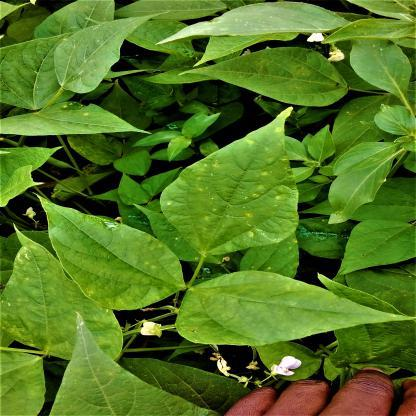Beans_Rust: (172, 108, 301, 260), (0, 225, 123, 366), (40, 196, 187, 308), (160, 0, 352, 41), (0, 98, 144, 138)
